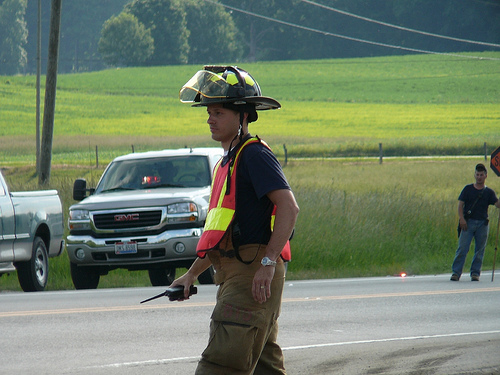helmet: (188, 62, 275, 113)
